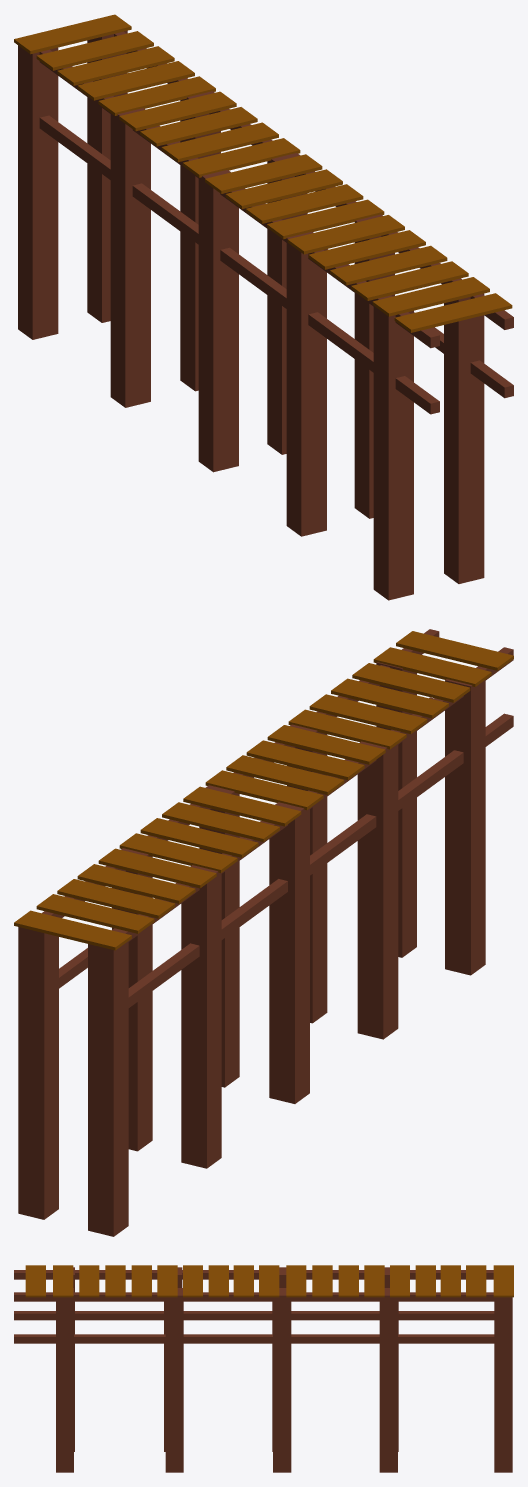
Rendered from Dock2.fbx.
The picture shows the model from 3 angles, top to bottom: view 1: azimuth 30°, elevation 25°; view 2: azimuth 150°, elevation 25°; view 3: azimuth 270°, elevation 25°; orthographic projection. The views are drawn at different scales.
Parts seen in each view (by area): view 1: Cube.033, Cube.031, Cube.032, Cube.038, Cube.001, Cube.037, Cube.073, Cube, Cube.036, Cube.035, Cube.034, Cube.023 (+21 smaller); view 2: Cube.001, Cube, Cube.032, Cube.033, Cube.038, Cube.031, Cube.073, Cube.034, Cube.035, Cube.037, Cube.036, Cube.008 (+20 smaller); view 3: Cube.078, Cube.073, Cube.035, Cube.034, Cube.036, Cube, Cube.037, Cube.004, Cube.003, Cube.011, Cube.009, Cube.025 (+19 smaller).
Boxes of the visible parts, bbox=[...] form: Cube.033: bbox=[198, 170, 238, 472]; Cube.031: bbox=[110, 108, 150, 407]; Cube.032: bbox=[286, 231, 326, 536]; Cube.038: bbox=[373, 306, 413, 600]; Cube.001: bbox=[18, 45, 58, 339]; Cube.037: bbox=[444, 293, 484, 583]; Cube.073: bbox=[39, 115, 439, 414]; Cube: bbox=[87, 30, 127, 322]; Cube.036: bbox=[354, 214, 394, 518]; Cube.035: bbox=[267, 153, 307, 454]; Cube.034: bbox=[180, 91, 220, 391]; Cube.023: bbox=[245, 184, 363, 223]; Cube.001: bbox=[88, 941, 128, 1236]; Cube: bbox=[18, 927, 58, 1219]; Cube.032: bbox=[357, 741, 398, 1039]; Cube.033: bbox=[269, 802, 309, 1103]; Cube.038: bbox=[445, 679, 485, 975]; Cube.031: bbox=[181, 865, 221, 1168]; Cube.073: bbox=[128, 713, 513, 1007]; Cube.034: bbox=[112, 848, 152, 1151]; Cube.035: bbox=[199, 785, 239, 1087]; Cube.037: bbox=[376, 662, 416, 957]; Cube.036: bbox=[287, 724, 327, 1023]; Cube.008: bbox=[98, 848, 216, 888]; Cube.078: bbox=[14, 1334, 494, 1343]; Cube.073: bbox=[14, 1311, 494, 1320]; Cube.035: bbox=[273, 1288, 291, 1472]; Cube.034: bbox=[379, 1288, 397, 1472]; Cube.036: bbox=[165, 1288, 183, 1472]; Cube: bbox=[494, 1297, 512, 1472]; Cube.037: bbox=[56, 1288, 73, 1472]; Cube.004: bbox=[14, 1292, 494, 1301]; Cube.003: bbox=[14, 1270, 493, 1279]; Cube.011: bbox=[312, 1265, 332, 1297]; Cube.009: bbox=[364, 1265, 384, 1297]; Cube.025: bbox=[157, 1265, 177, 1297].
Size of the model in its own units: 789 by 2165 by 5501.
